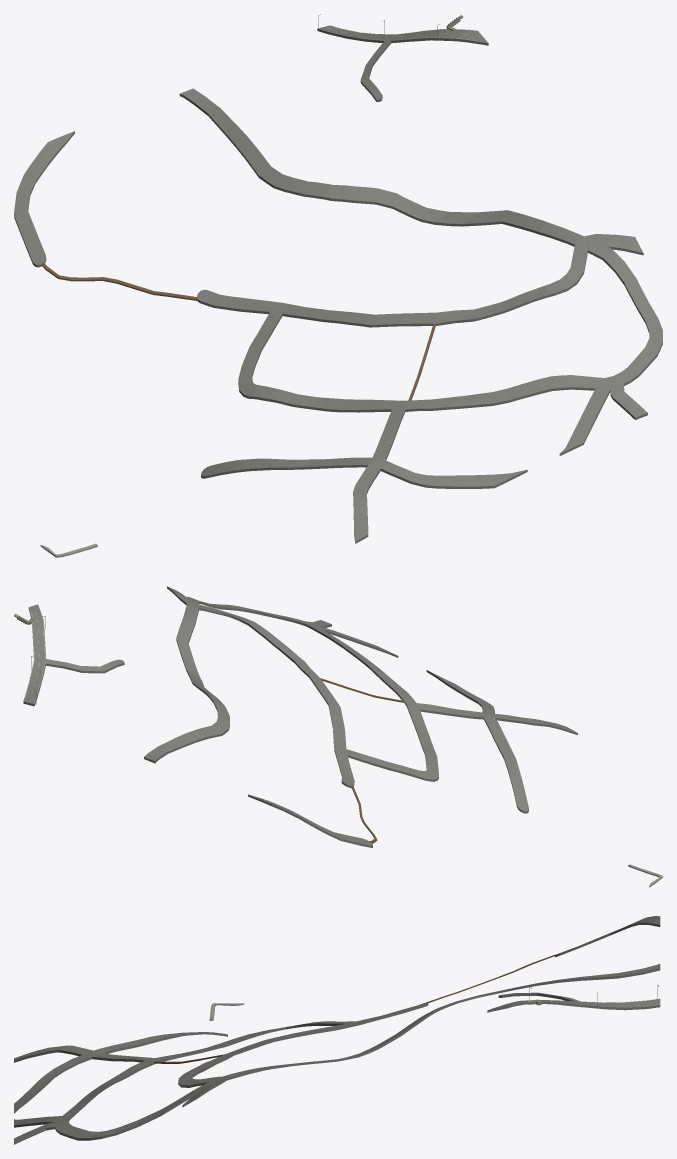
3 views of the same model, one above another, from view 1: azimuth 30°, elevation 25°; view 2: azimuth 150°, elevation 25°; view 3: azimuth 270°, elevation 25° (orthographic). The views are drawn at different scales.
Size of the model in its own units: 294 by 139 by 293.
